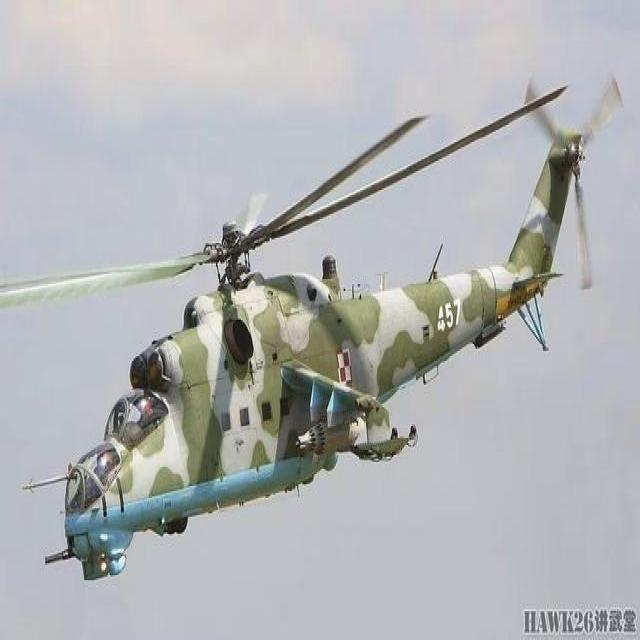MIL_HELO: (0, 82, 621, 601)
